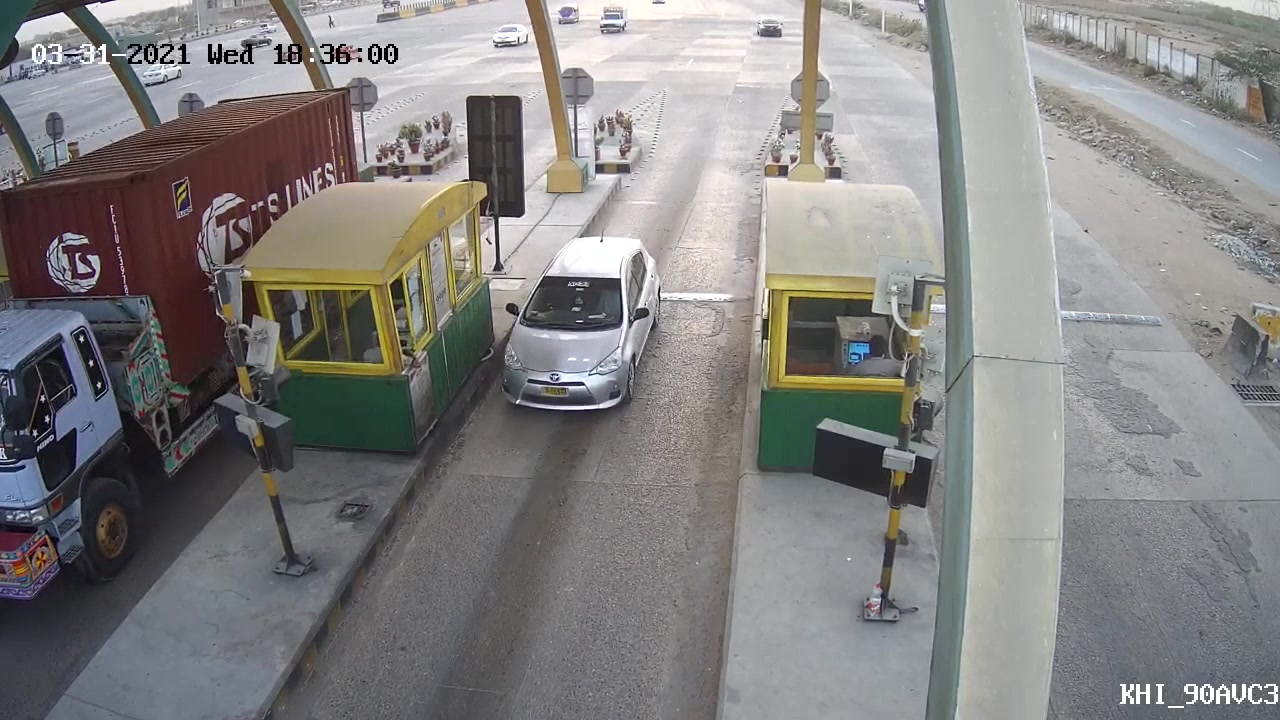F1: (493, 232, 668, 420)
